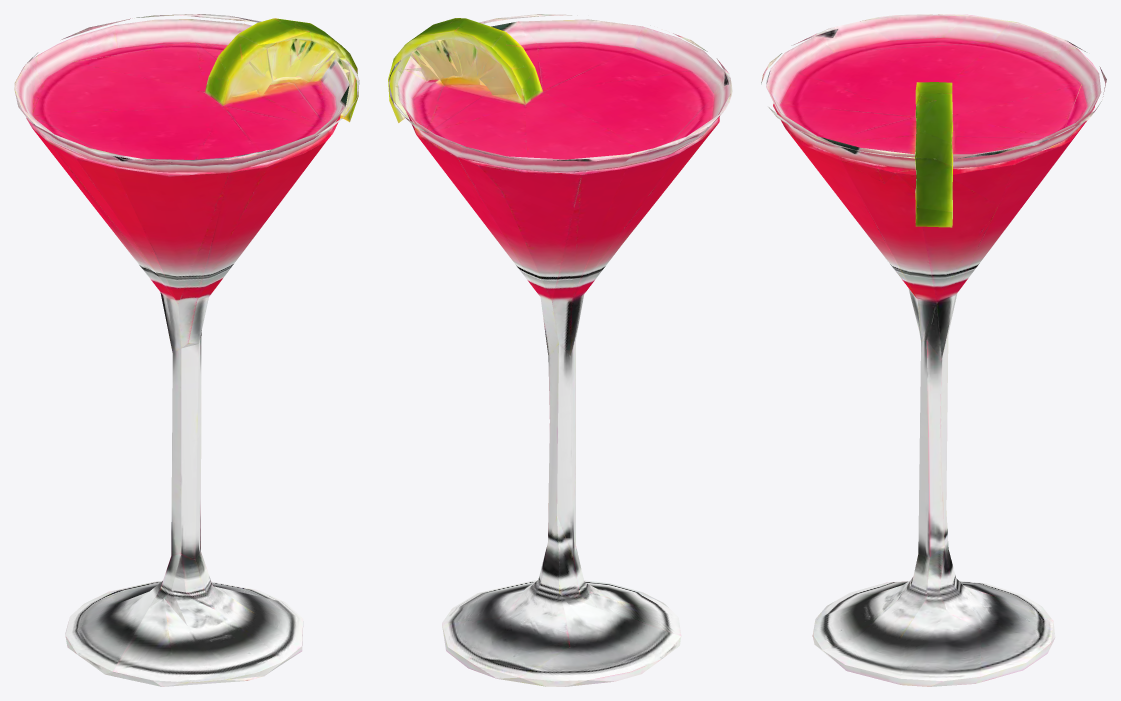
Rendered from martini.glb.
3 renders of one model, left to right at view 1: azimuth 30°, elevation 25°; view 2: azimuth 150°, elevation 25°; view 3: azimuth 270°, elevation 25°, orthographic.
Size of the model in its own units: 1.06 by 1.89 by 1.01.
Materials: 1 (1 with a texture image).
